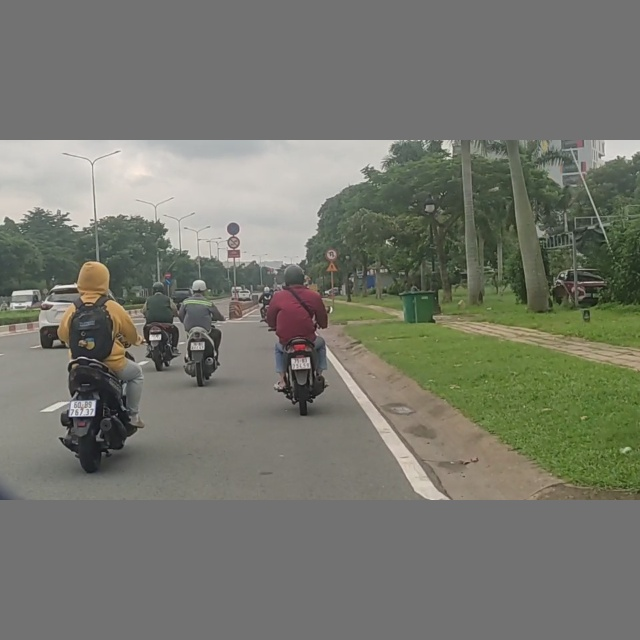P.102: (164, 271, 171, 278)
P.111: (227, 236, 241, 248)
P.124a*: (325, 247, 338, 261)
P.130: (227, 222, 239, 235)
R.302a: (165, 278, 173, 285)
W.224: (325, 261, 339, 271)
